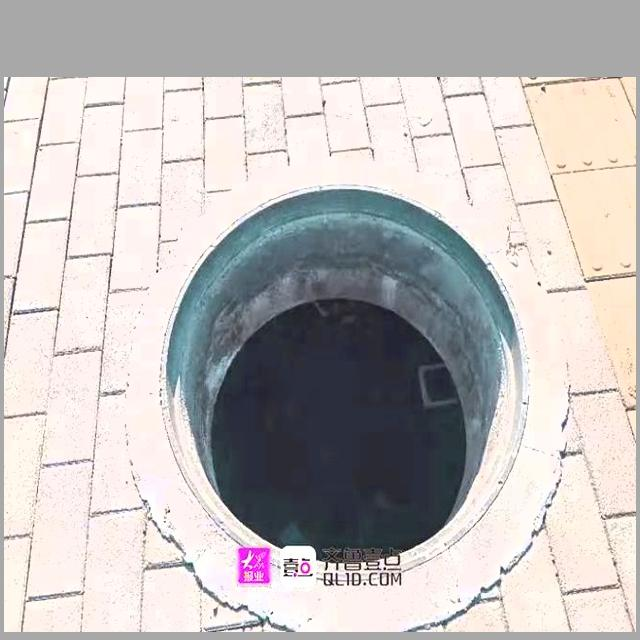lose: (125, 156, 570, 620)
